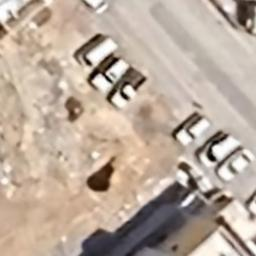pickup: (108, 70, 148, 107)
sedan: (218, 147, 255, 185), (202, 134, 239, 167)
van: (77, 32, 118, 69), (91, 58, 128, 92), (174, 114, 210, 145)
